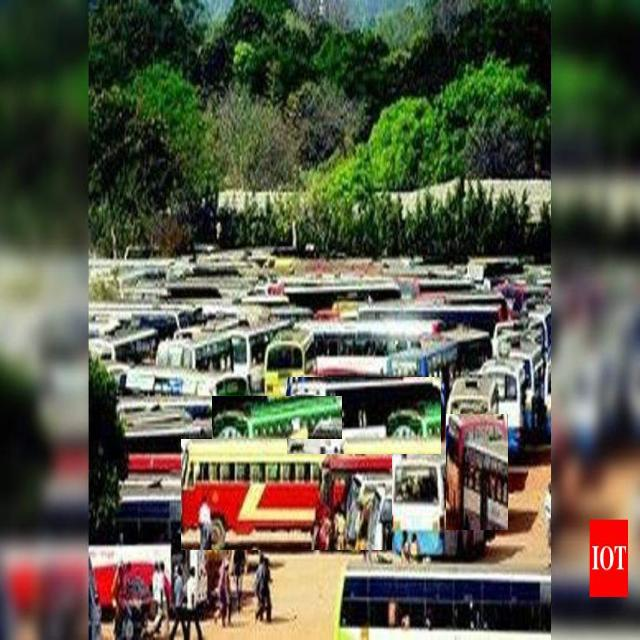bus: (181, 440, 391, 550), (89, 482, 208, 613), (335, 567, 551, 639), (392, 440, 491, 558), (287, 378, 440, 454), (446, 415, 508, 530), (212, 396, 341, 439), (264, 329, 314, 399)
